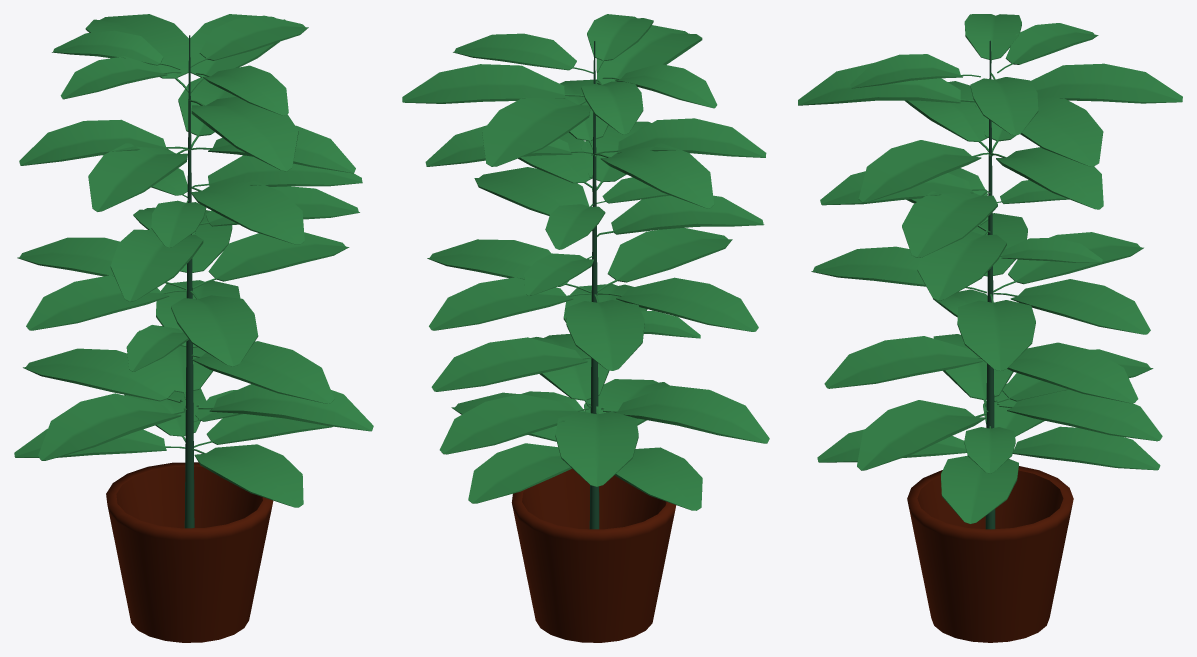
File: Pflanze.fbx
3 renders of one model, left to right at view 1: azimuth 30°, elevation 25°; view 2: azimuth 150°, elevation 25°; view 3: azimuth 270°, elevation 25°, orthographic.
Visible parts, largest first — view 1: polySurface1; view 2: polySurface1; view 3: polySurface1.
Part boxes in pixels (bbox=[...]): polySurface1: bbox=[14, 14, 373, 642]; polySurface1: bbox=[402, 14, 769, 642]; polySurface1: bbox=[798, 14, 1182, 642].
Bounding box in the file's own units: 444 × 764 × 462.
